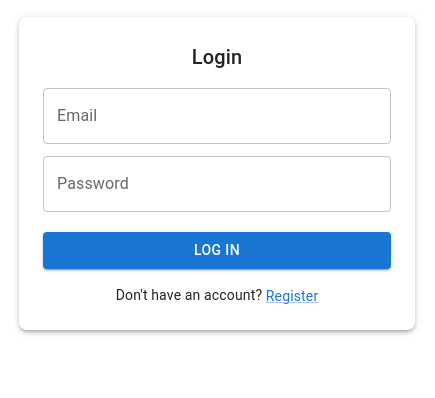
Test: LoginForm Component › validates empty fields
Click the button "Log In" at (217, 250), box [43,232,391,268]
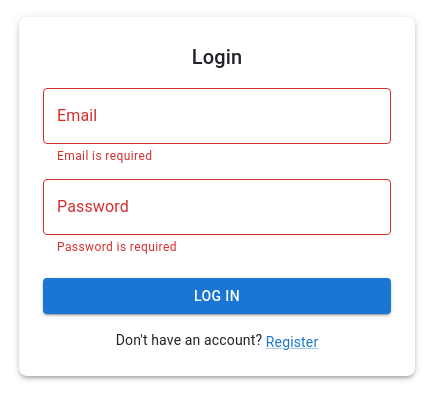
Expected: the text "Email is required" is shown, [57,149,152,163]
